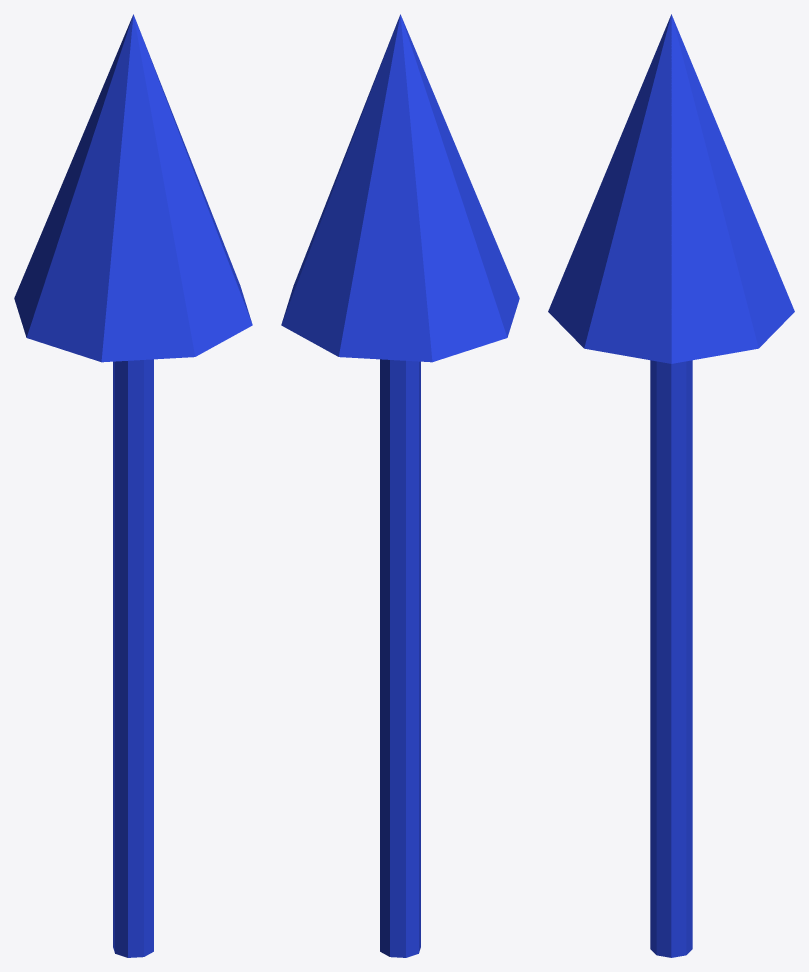
File: arrow-blue.gltf
The picture shows the model from 3 angles, left to right: view 1: azimuth 30°, elevation 25°; view 2: azimuth 150°, elevation 25°; view 3: azimuth 270°, elevation 25°; orthographic projection.
Visible parts, largest first — view 1: Cylinder; view 2: Cylinder; view 3: Cylinder.
Part boxes in pixels (x1=…): Cylinder: x1=14, y1=14, x2=252, y2=957; Cylinder: x1=281, y1=14, x2=519, y2=957; Cylinder: x1=548, y1=14, x2=794, y2=957.
Bounding box in the file's own units: 0.8031 × 3.35 × 0.8031.
